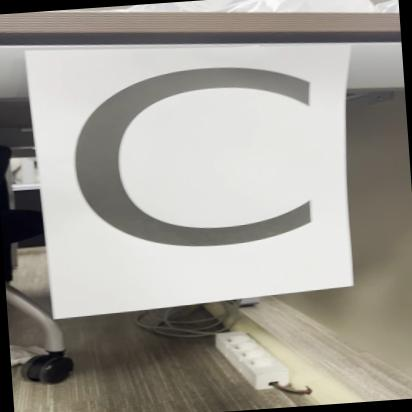seat: (37, 35, 357, 304)
